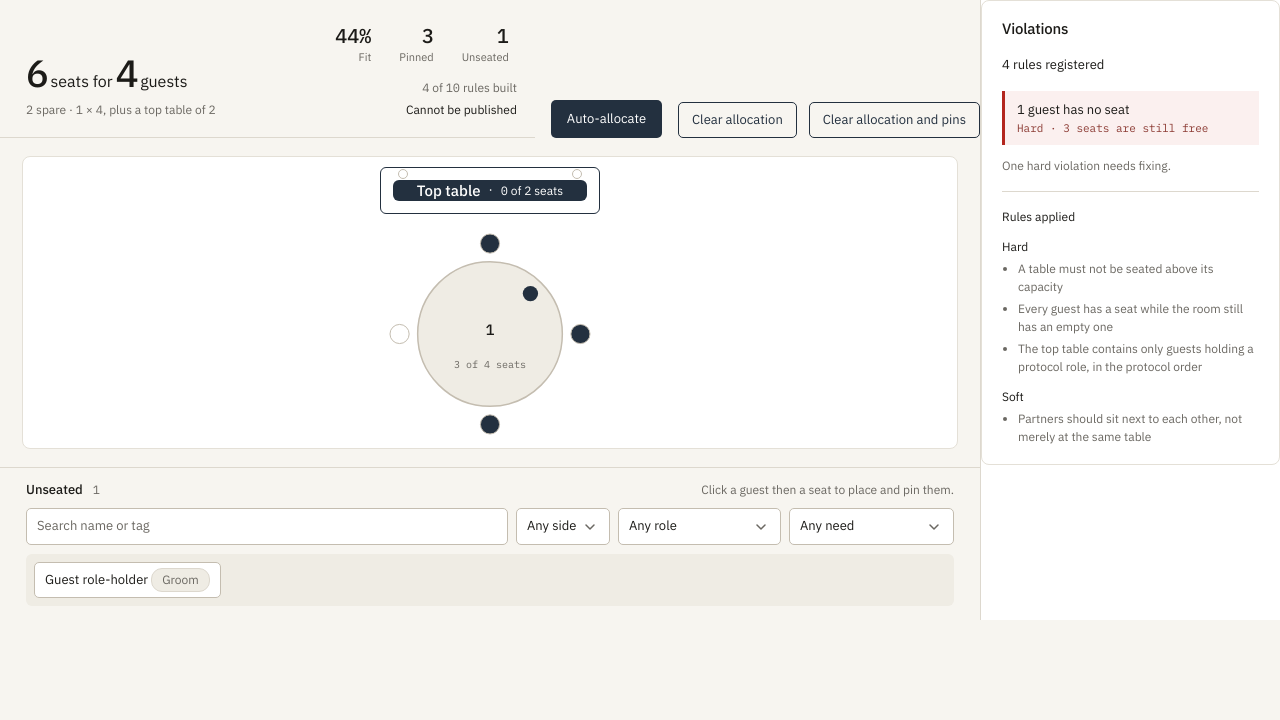
Test: TT-49 — an unseated protocol-role holder costs the top table a chance, visible in the score before Auto-allocate closes it › the Fit figure drops for a genuine unseated role holder, quietly (no hard violation raised by that seat alone), and recovers once Auto-allocate seats them
Expected: the button "44% Fit" is shown, x1=327 y1=22 x2=379 y2=71
Expected: the text "Cannot be published" is shown, x1=406 y1=101 x2=517 y2=119
What coordinates should you click on to do the following:
click the button "Auto-allocate"
I would click on:
 (606, 119)
Its box is x1=551 y1=100 x2=662 y2=138.
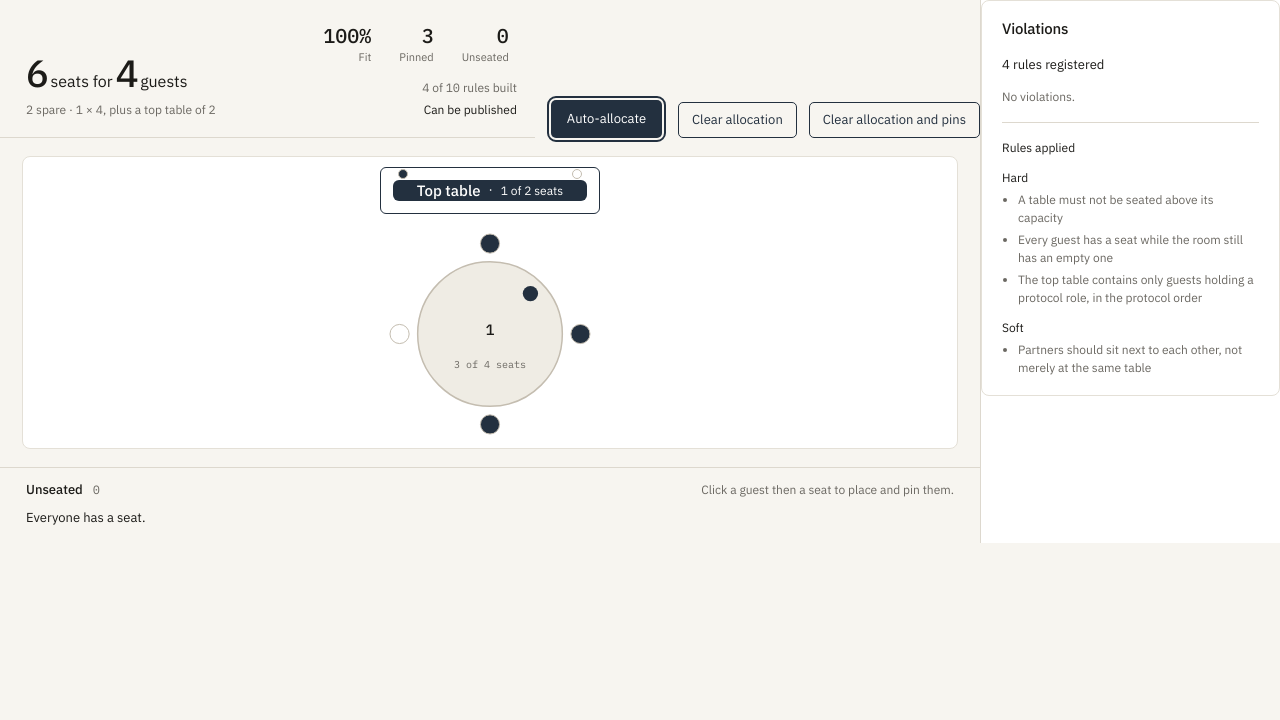
Result: the button "100% Fit" is shown at x1=315 y1=22 x2=379 y2=71
Result: the text "Can be published" is shown at x1=424 y1=101 x2=517 y2=119
